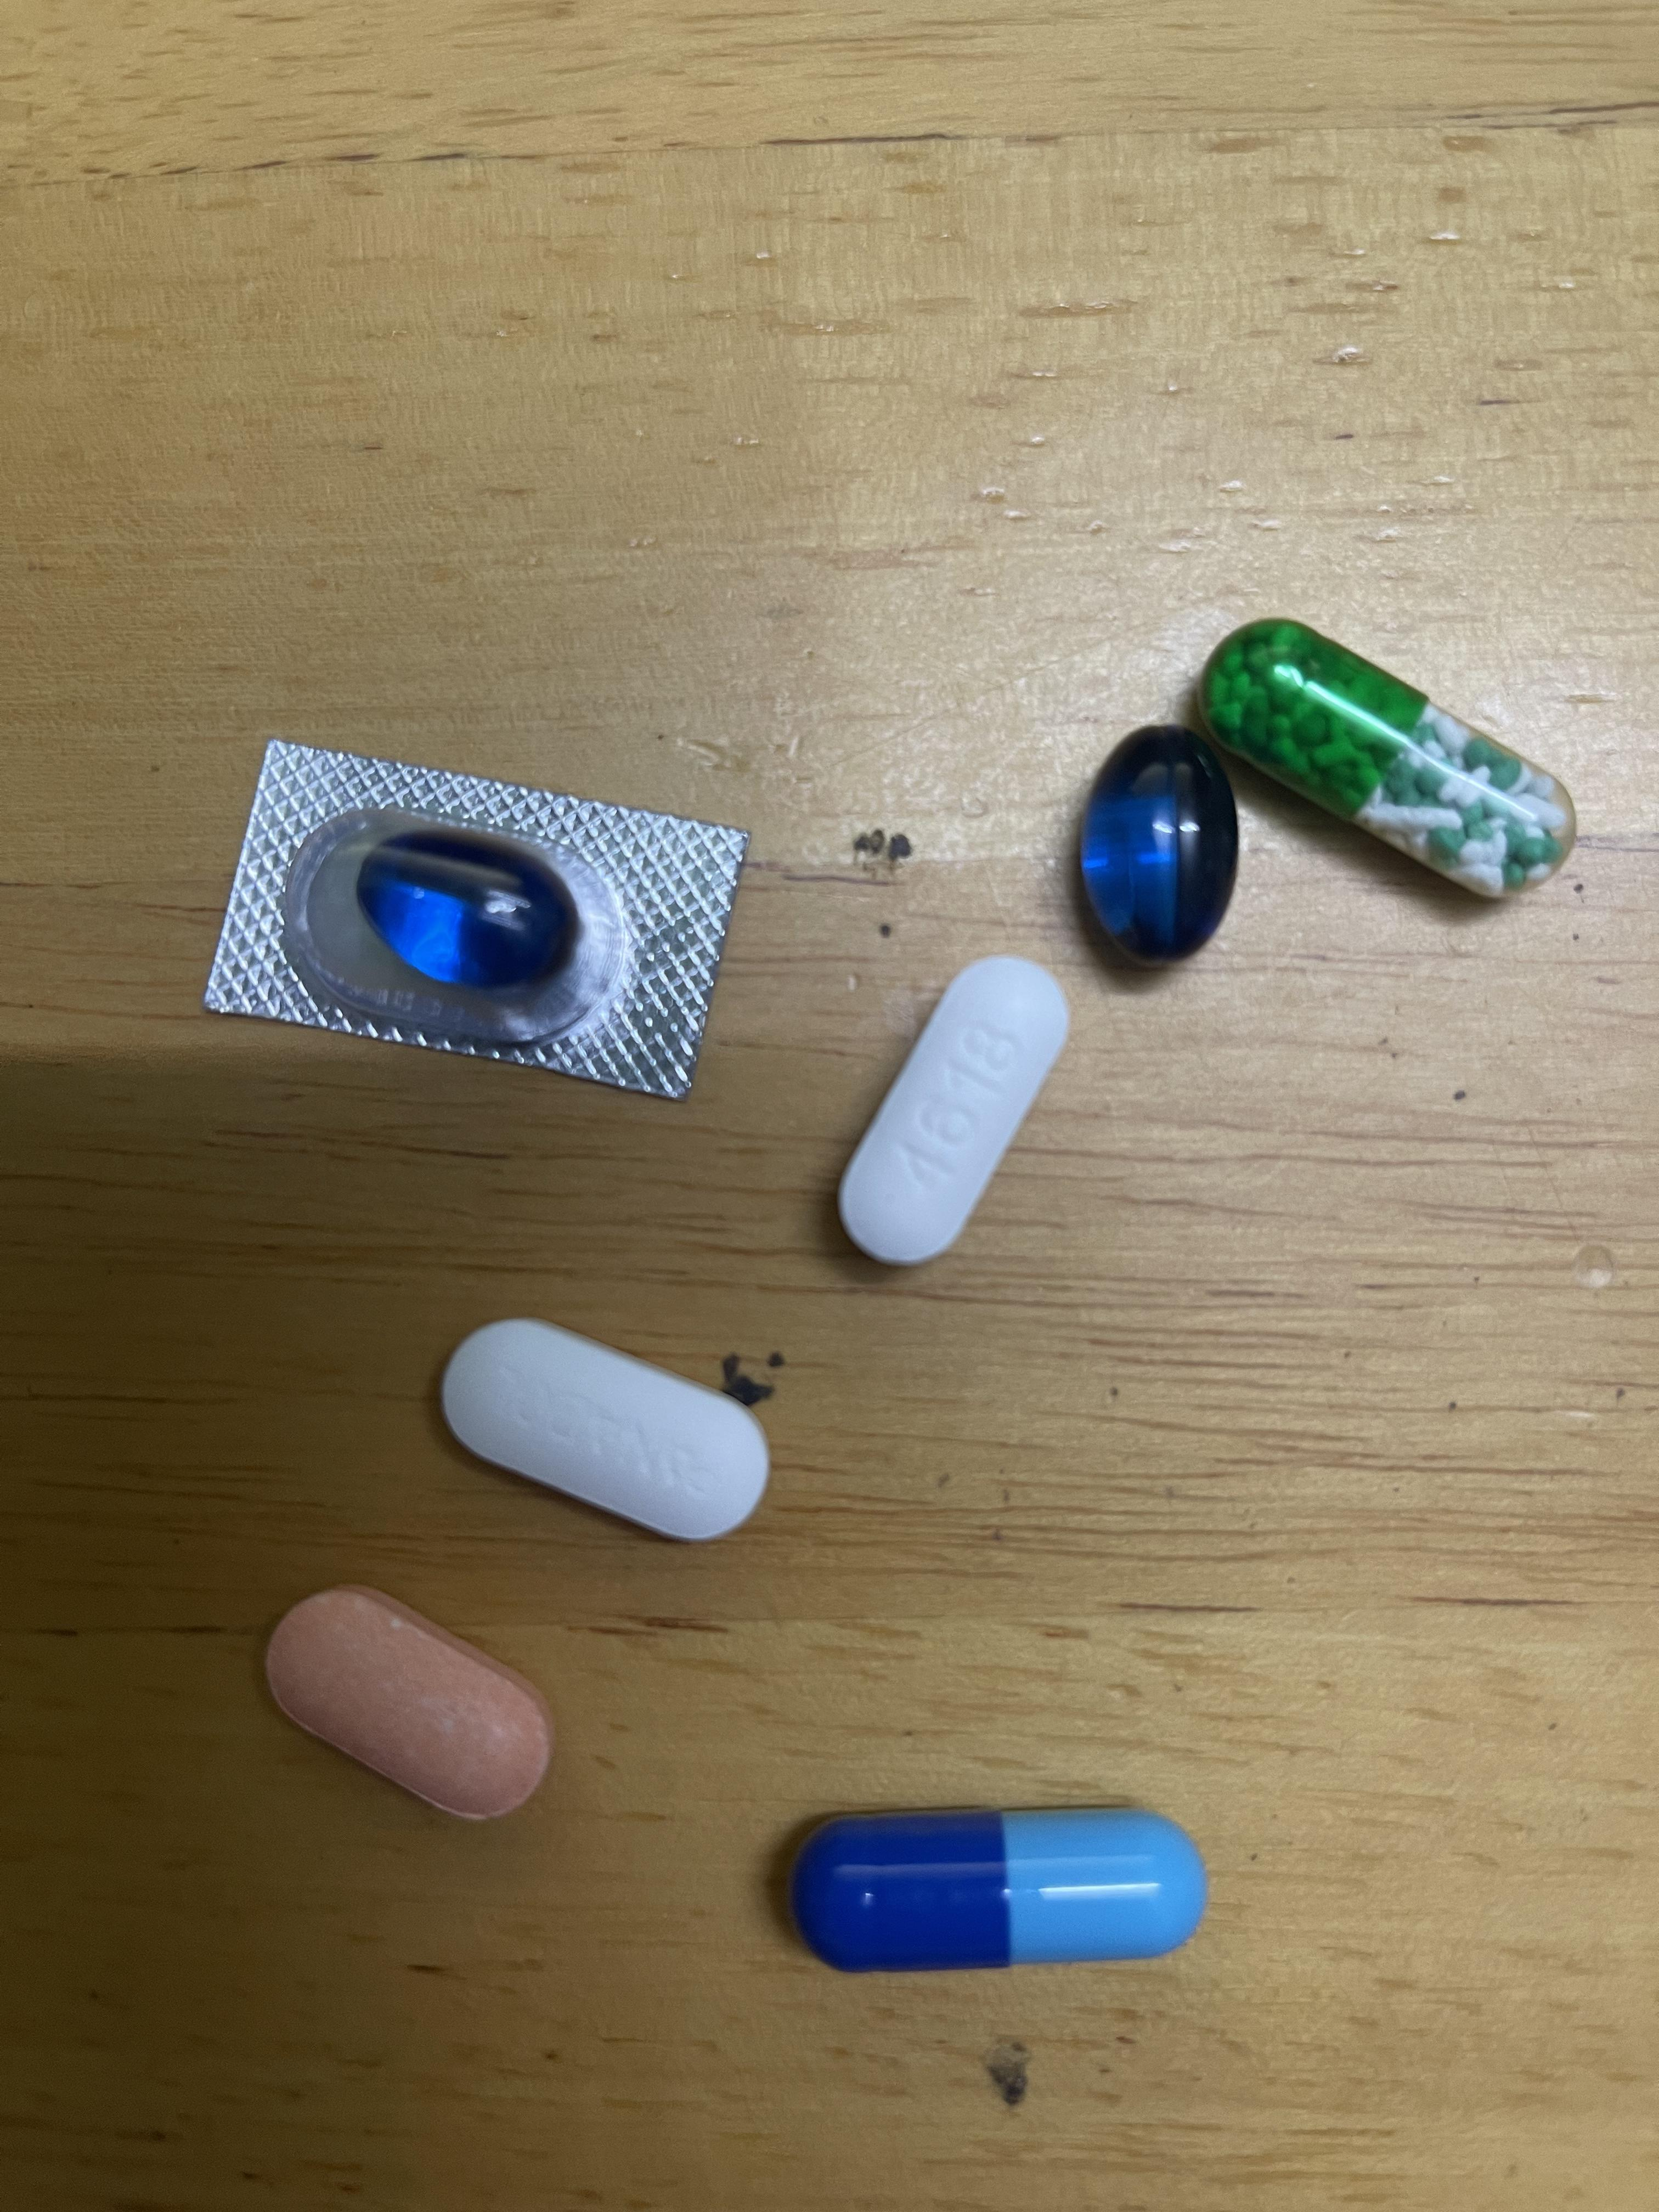Lincomyxin_500mg: (1079, 723, 1241, 958), (357, 836, 572, 993)
Loratadine_10mg: (265, 1583, 558, 1822)
Paracetamol_350mg: (448, 1317, 763, 1543)
Paracetamol_500mg: (831, 954, 1066, 1266)
Paracetamol_650mg: (1209, 629, 1567, 885)
pill: (802, 1806, 1190, 1979)
